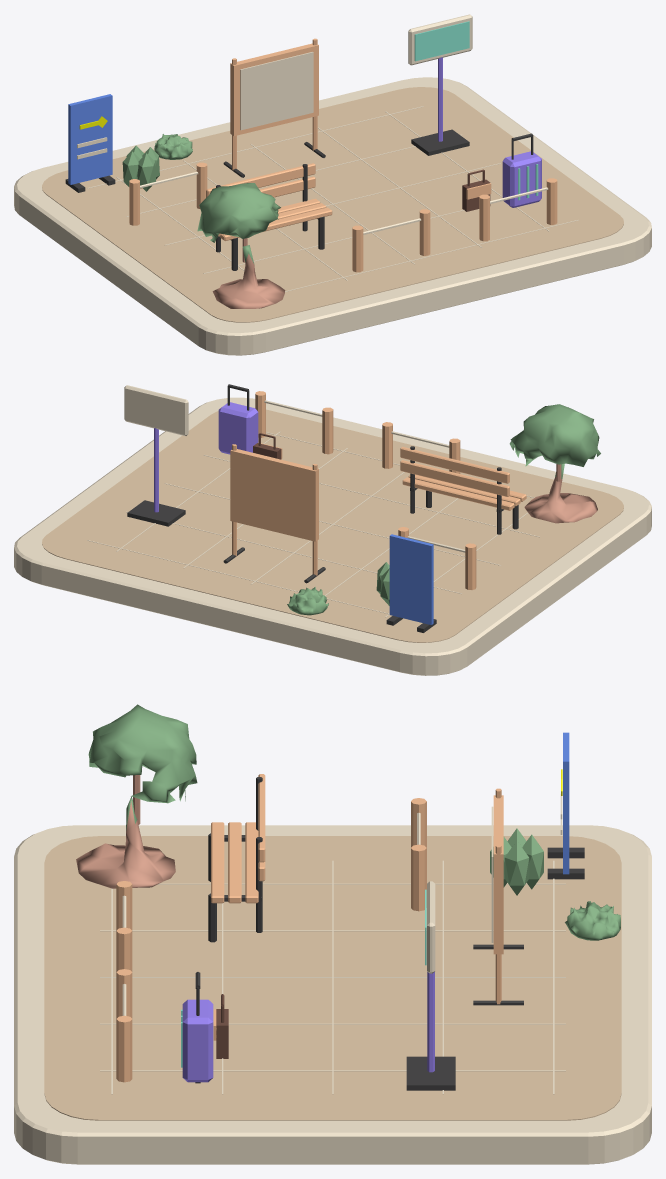
The model's file is room.fbx.
3 views of the same model, one above another, from view 1: azimuth 30°, elevation 25°; view 2: azimuth 150°, elevation 25°; view 3: azimuth 270°, elevation 25° (orthographic). The views are drawn at different scales.
Parts seen in each view (by area): view 1: COM-02 Floor Surface, COM-01 Rounded Base Direct, 잎이 넓은 작은 나무, Art surface, Panel, Frame, Shell, Inset, Sign panel, Foot.002, Back slat.001, 넓은 잎 풀 포기 (+9 smaller); view 2: COM-02 Floor Surface, COM-01 Rounded Base Direct, Frame, 잎이 넓은 작은 나무, Panel, Sign panel, Shell, Back slat, Back slat.001, Seat slat.002, Foot.002, 넓은 잎 풀 포기 (+5 smaller); view 3: COM-02 Floor Surface, COM-01 Rounded Base Direct, 잎이 넓은 작은 나무, Shell, Frame, 넓은 잎 풀 포기, Foot.002, Seat slat, Seat slat.001, Boundary post.003, Boundary post.005, Panel (+14 smaller).
Part boxes in pixels (x1,y1,x2,y2): COM-02 Floor Surface: (42,87,623,322); COM-01 Rounded Base Direct: (14,77,651,355); 잎이 넓은 작은 나무: (197,183,285,308); Art surface: (240,52,313,130); Panel: (68,94,112,184); Frame: (230,43,318,136); Shell: (502,151,541,207); Inset: (414,21,469,61); Sign panel: (408,14,472,65); Foot.002: (411,129,469,155); Back slat.001: (206,163,315,197); 넓은 잎 풀 포기: (154,134,192,159); COM-02 Floor Surface: (42,407,623,642); COM-01 Rounded Base Direct: (14,397,651,675); Frame: (230,449,318,541); 잎이 넓은 작은 나무: (509,404,600,523); Panel: (389,534,433,624); Sign panel: (124,385,188,435); Shell: (218,402,258,454); Back slat: (400,460,509,496); Back slat.001: (400,446,509,483); Seat slat.002: (402,477,514,510); Foot.002: (127,500,185,526); 넓은 잎 풀 포기: (287,587,328,615); COM-02 Floor Surface: (44,836,621,1120); COM-01 Rounded Base Direct: (14,825,651,1164); 잎이 넓은 작은 나무: (76,704,197,888); Shell: (182,999,213,1082); Frame: (493,795,503,954); 넓은 잎 풀 포기: (565,901,620,940); Foot.002: (406,1056,455,1090); Seat slat: (211,822,224,903); Seat slat.001: (228,822,241,903); Boundary post.003: (116,1015,132,1082); Boundary post.005: (411,844,426,911); Panel: (563,732,569,874).
Bounding box in the file's own units: 600 × 187 × 520.
